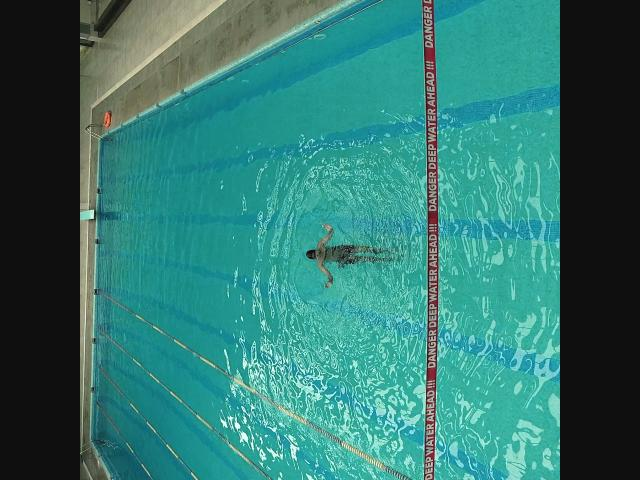drowning: (303, 222, 396, 287)
